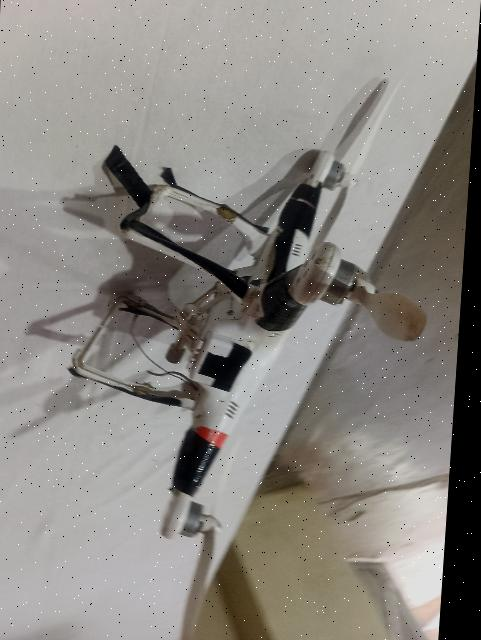drone: (42, 80, 419, 580)
